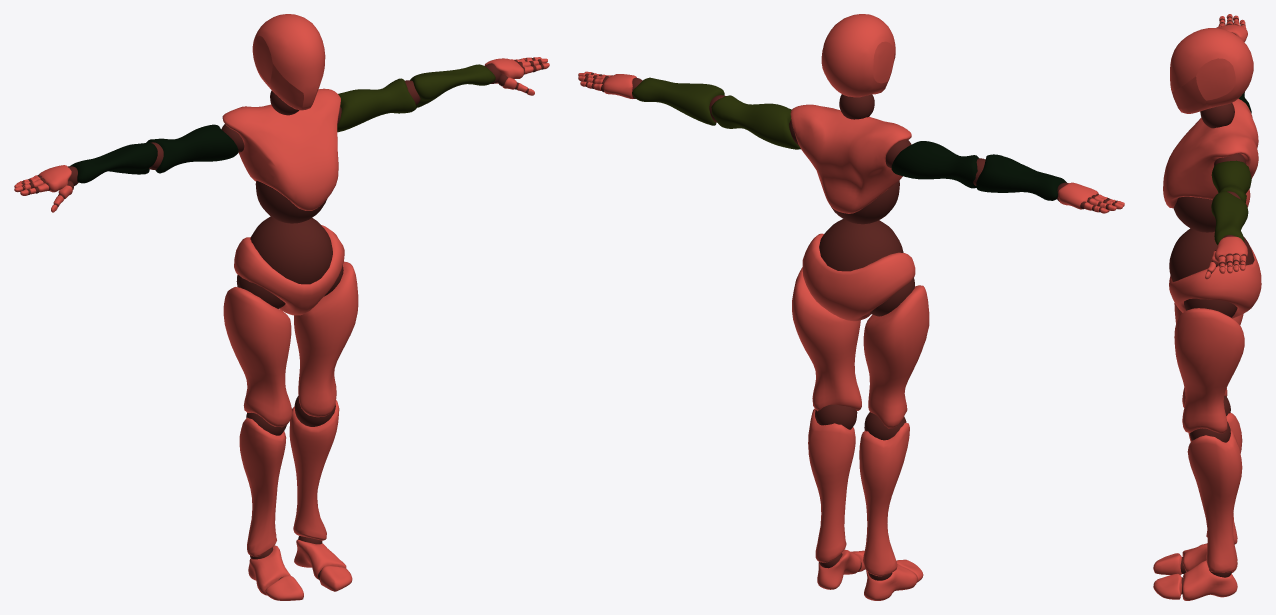
File: CharFemTest02_LP_OBJ.obj
3 views of the same model, side by side, from view 1: azimuth 30°, elevation 25°; view 2: azimuth 150°, elevation 25°; view 3: azimuth 270°, elevation 25° (orthographic). The views are drawn at different scales.
Parts seen in each view (by area): view 1: Beta_Surface, Beta_Joints; view 2: Beta_Surface, Beta_Joints; view 3: Beta_Surface, Beta_Joints.
Boxes of the visible parts, box(x1,y1,x2,y2) form: Beta_Surface: box(14, 14, 549, 600); Beta_Joints: box(21, 57, 543, 579); Beta_Surface: box(578, 14, 1124, 600); Beta_Joints: box(584, 72, 1117, 580); Beta_Surface: box(1153, 14, 1261, 600); Beta_Joints: box(1169, 16, 1254, 594).
Bounding box in the file's own units: 181 × 181 × 32.07.
